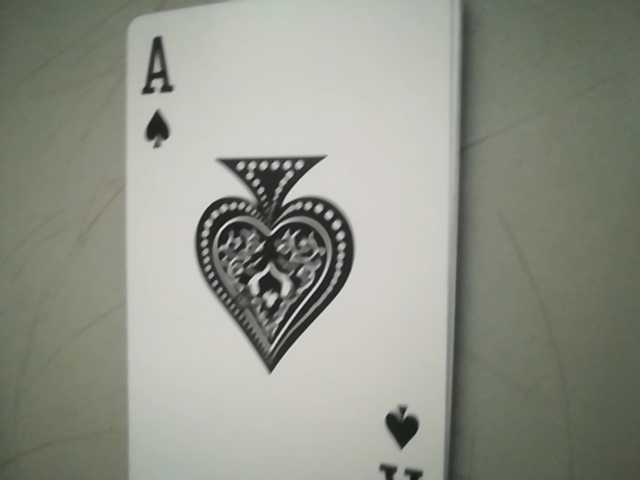ht a: (123, 29, 183, 153)
